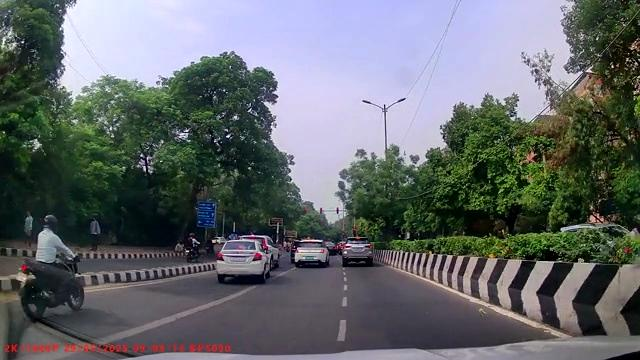motorcycle_with_helmet: (15, 214, 86, 319)
